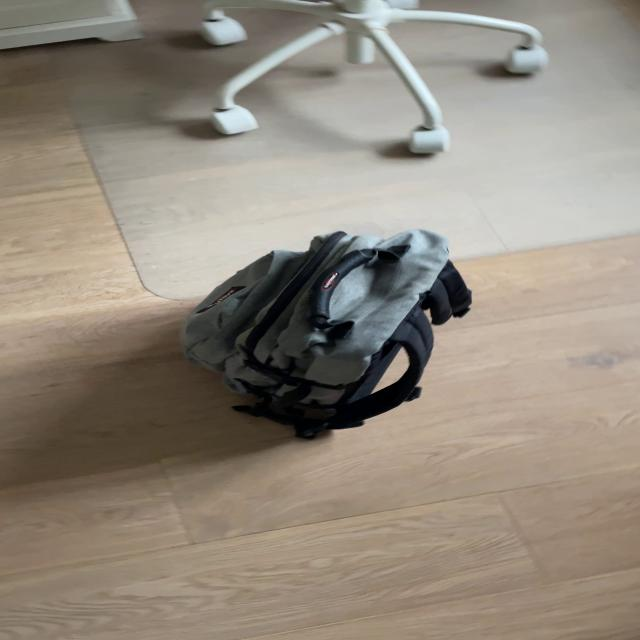backpack: (165, 218, 484, 450)
